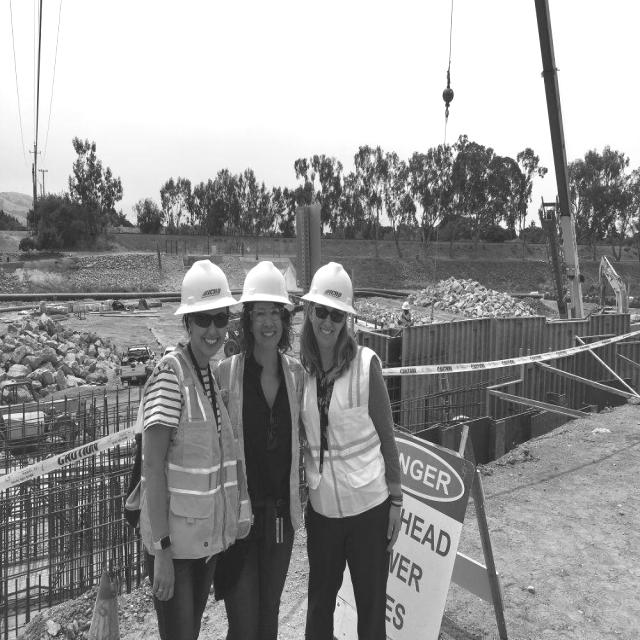face_nomask: (192, 307, 230, 353), (251, 298, 285, 346), (315, 300, 343, 342)
glasses: (248, 301, 287, 325), (192, 310, 230, 332), (310, 304, 346, 326)
hand_noglove: (150, 535, 184, 602), (378, 492, 414, 548)
head_helmet: (174, 260, 238, 314), (301, 261, 358, 315), (240, 261, 294, 312)
person: (300, 259, 403, 640), (141, 259, 233, 640), (229, 261, 302, 640)
vest: (147, 346, 232, 544), (303, 343, 392, 517), (216, 354, 303, 528)
